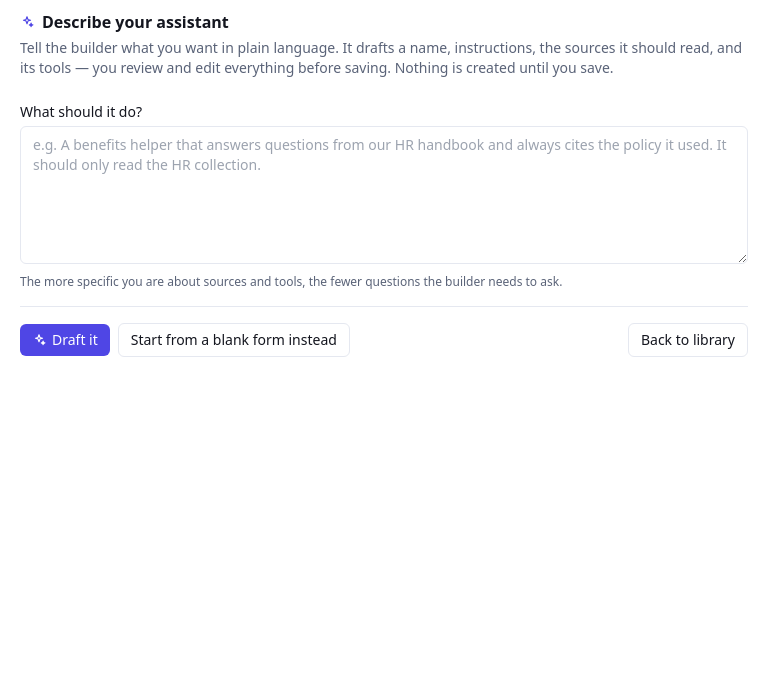
Test case: DescribeAssistant — draft → editor (E6-1, #213) › surfaces a high-risk tool warning above the form (AC-3)
In the text box labelled "What should it do?": coordinates (384, 195) [20,126,748,264], type "An assistant that writes files."
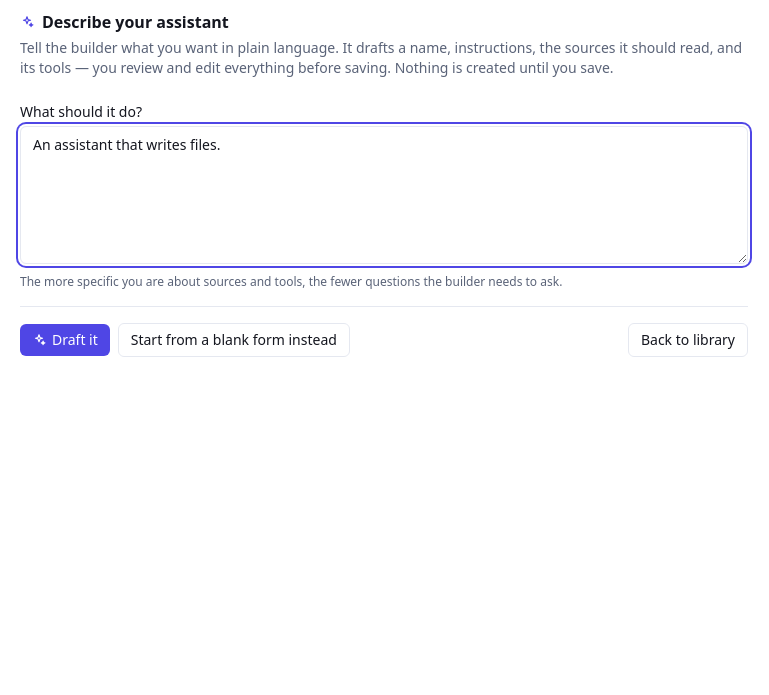
Click the button "Draft it": coordinates (65, 340) [20,324,110,356]
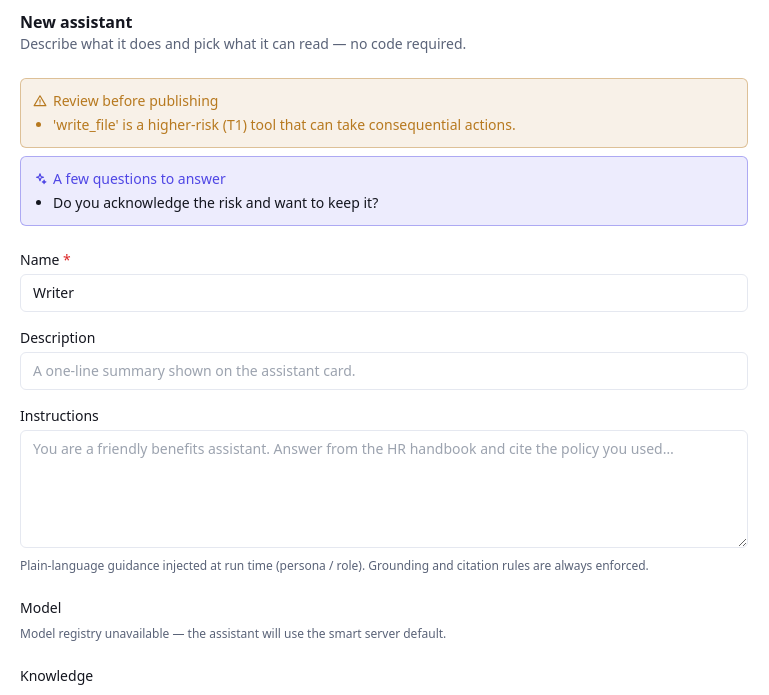
Result: the text "Review before publishing" is shown at [33,91,218,110]
Result: the list item "write_file" is shown at [53,115,516,134]
Result: the list item "Do you acknowledge the risk and want to keep it?" is shown at [53,193,378,212]
